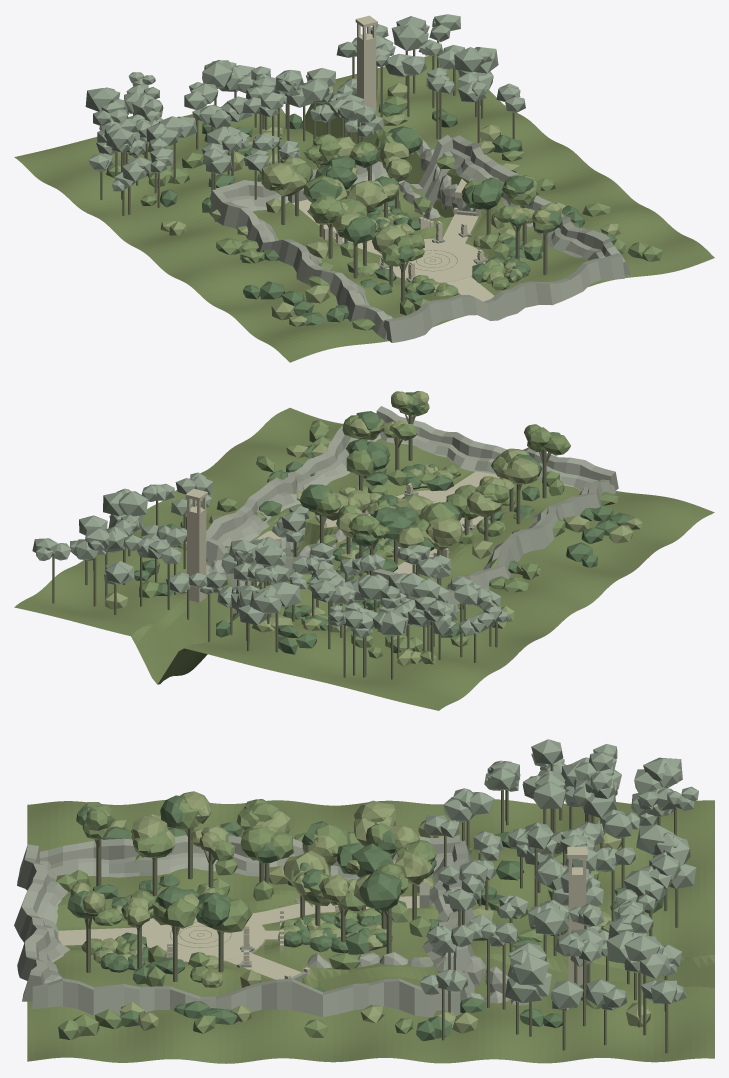
The model's file is hub-blockout.glb.
3 views of the same model, one above another, from view 1: azimuth 30°, elevation 25°; view 2: azimuth 150°, elevation 25°; view 3: azimuth 270°, elevation 25° (orthographic). The views are drawn at different scales.
Visible parts, largest first — view 1: Moss_earth, Distant_forest, Stone_shade, Canopy_0, Canopy_1, Canopy_2, Limestone, Trunks; view 2: Moss_earth, Distant_forest, Stone_shade, Canopy_1, Canopy_0, Canopy_2, Trunks, Limestone; view 3: Moss_earth, Distant_forest, Stone_shade, Canopy_1, Canopy_0, Canopy_2, Trunks, Limestone.
Part boxes in pixels (<box>): Moss_earth: <box>14,55,714,362</box>; Distant_forest: <box>85,14,525,191</box>; Stone_shade: <box>209,134,630,342</box>; Canopy_0: <box>160,104,615,325</box>; Canopy_1: <box>106,96,662,330</box>; Canopy_2: <box>125,83,620,326</box>; Limestone: <box>292,15,494,301</box>; Trunks: <box>100,41,547,301</box>; Moss_earth: <box>14,408,714,710</box>; Distant_forest: <box>32,472,509,637</box>; Stone_shade: <box>206,406,618,618</box>; Canopy_1: <box>139,394,618,664</box>; Canopy_0: <box>134,392,633,654</box>; Canopy_2: <box>105,391,642,666</box>; Trunks: <box>52,414,550,679</box>; Limestone: <box>185,471,499,602</box>; Moss_earth: <box>27,799,714,1063</box>; Distant_forest: <box>420,739,698,1010</box>; Stone_shade: <box>14,835,532,1017</box>; Canopy_1: <box>56,798,610,1040</box>; Canopy_0: <box>67,795,664,1041</box>; Canopy_2: <box>70,791,650,1033</box>; Trunks: <box>84,764,678,1053</box>; Limestone: <box>58,846,587,985</box>.
Size of what is drawn, in the model's own units: 120 by 42.3 by 138.
